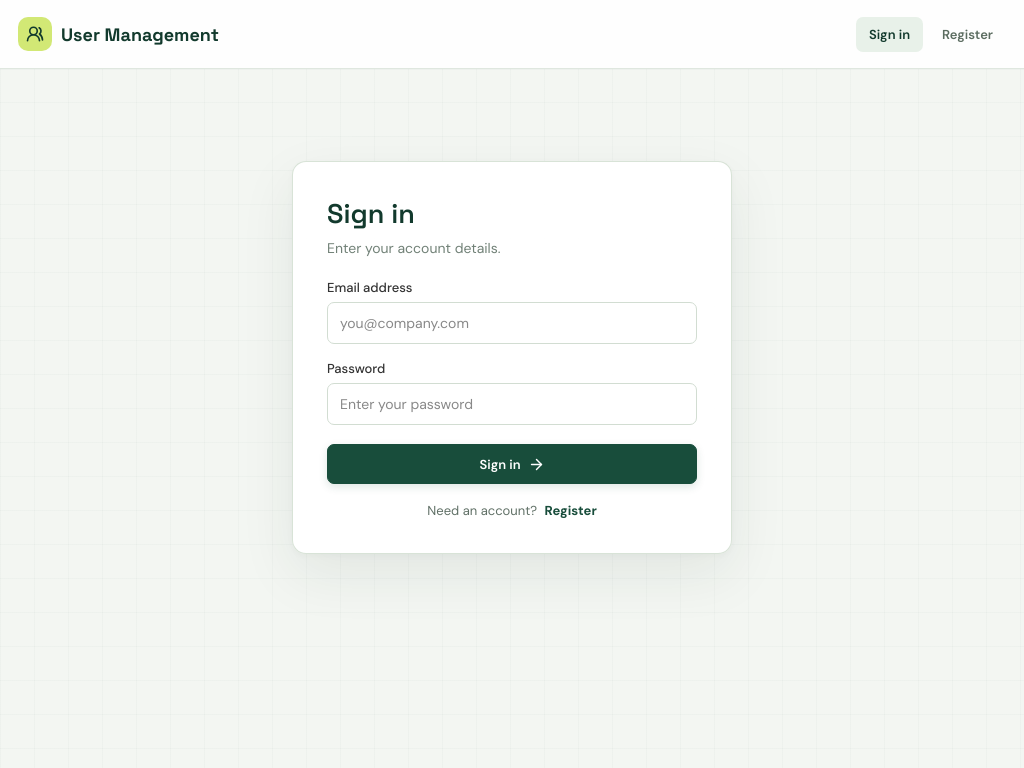
it: sign-in flow › shows API errors and lets the user retry
The image size is (1024, 768).
Type "ada@example.com" into the field labelled "Email address" at {"x": 512, "y": 323}, box left=327, top=302, right=697, bottom=344
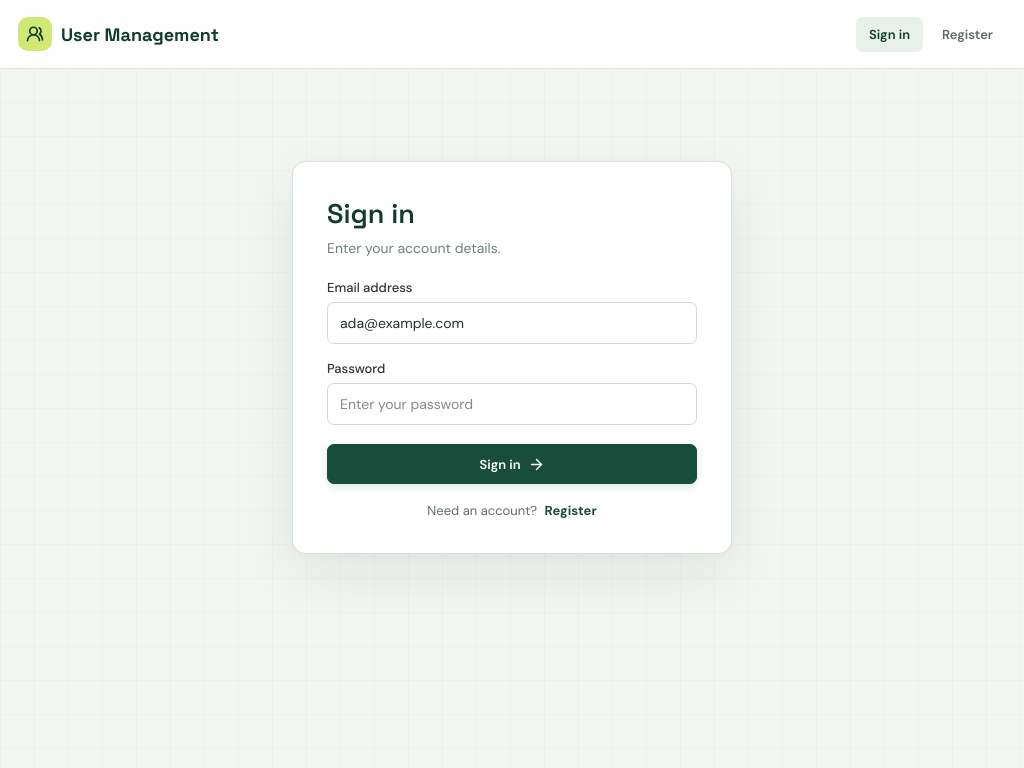
Type "wrong-password" into the password field labelled "Password" at {"x": 512, "y": 404}, box left=327, top=383, right=697, bottom=425
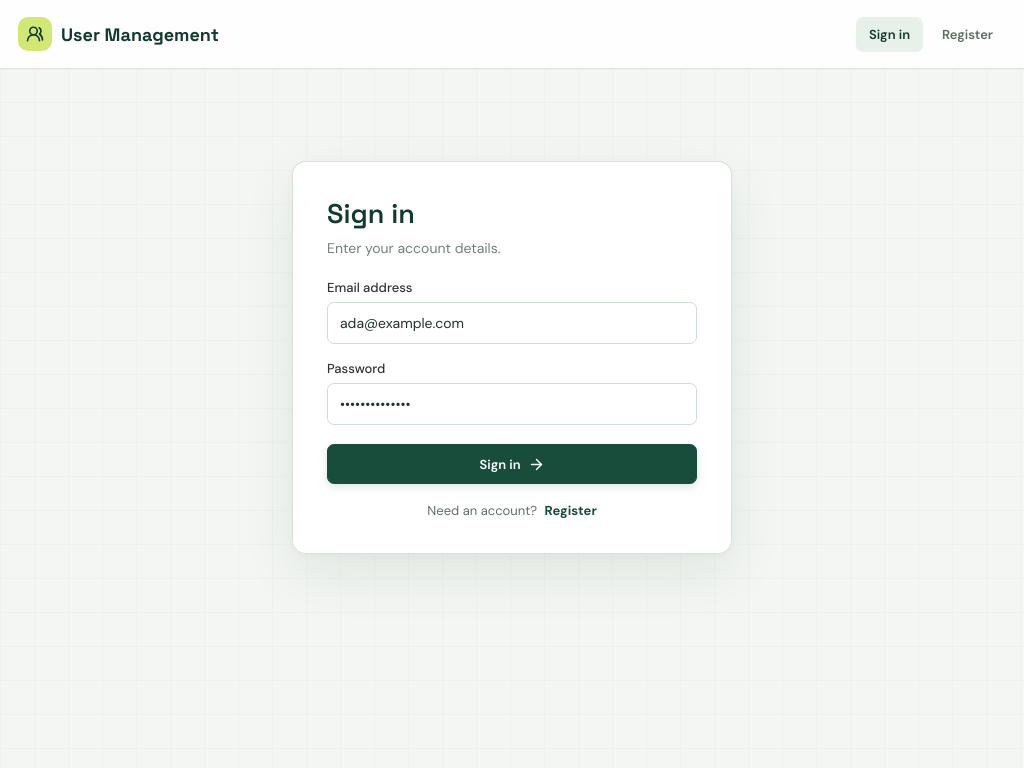
Click the button "Sign in" below "Password" at {"x": 512, "y": 464}, box left=327, top=444, right=697, bottom=484
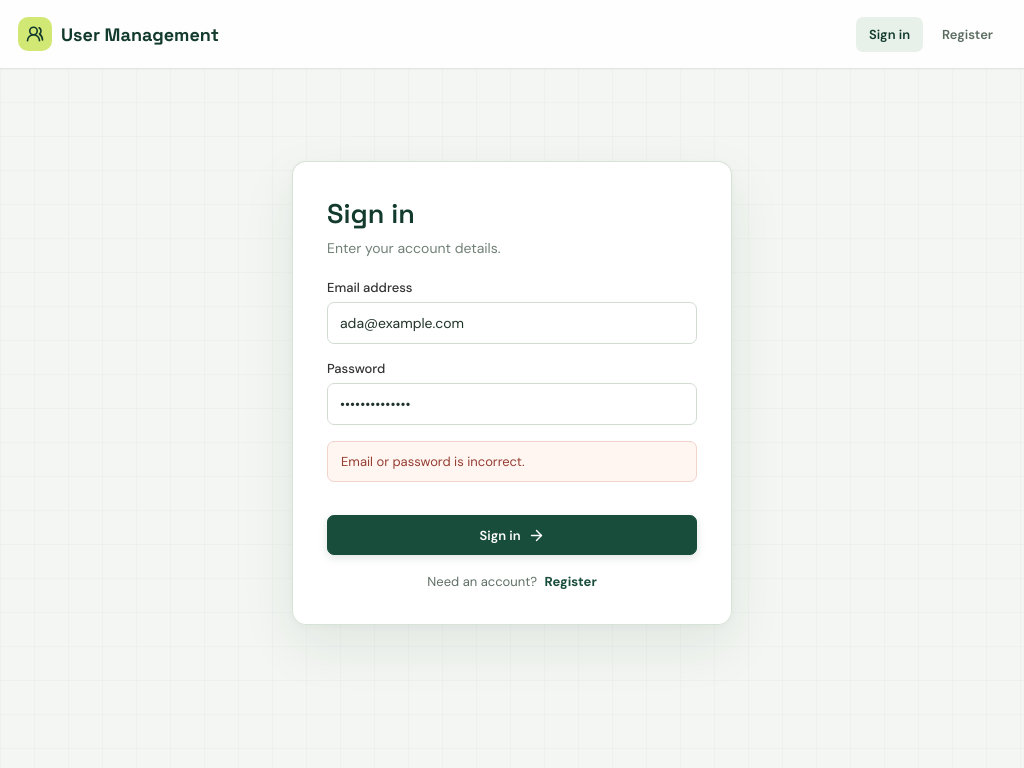
Expected: the message reads "Email or password is incorrect.", left=341, top=453, right=524, bottom=470
